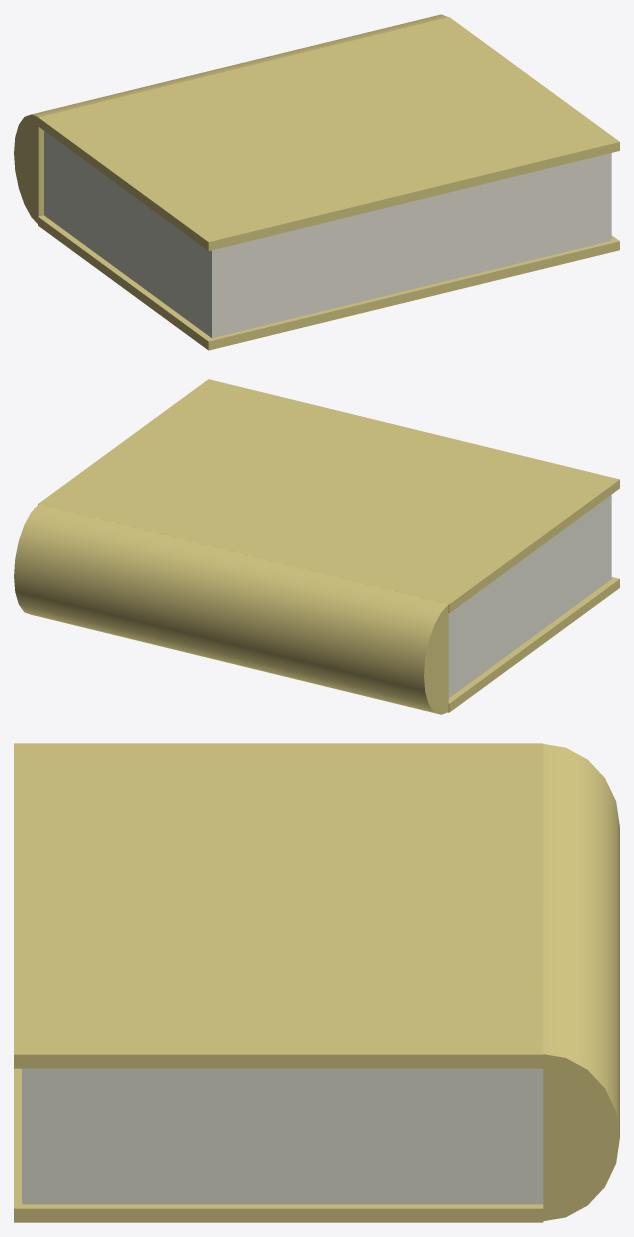
File: book3.fbx
3 renders of one model, top to bottom at view 1: azimuth 30°, elevation 25°; view 2: azimuth 150°, elevation 25°; view 3: azimuth 270°, elevation 25°, orthographic. The views are drawn at different scales.
Parts seen in each view (by area): view 1: pCylinder11; view 2: pCylinder11; view 3: pCylinder11.
Boxes of the visible parts, bbox=[...] form: pCylinder11: bbox=[14, 14, 619, 350]; pCylinder11: bbox=[14, 379, 619, 714]; pCylinder11: bbox=[14, 743, 619, 1222].
Size of the model in its own units: 8.23 by 2.07 by 6.77.
